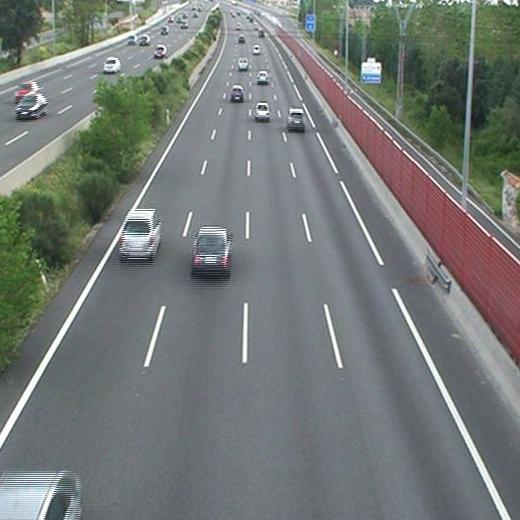car: (119, 209, 161, 260), (191, 227, 230, 271), (287, 108, 305, 129), (255, 103, 269, 119), (230, 86, 245, 100), (257, 71, 269, 83), (253, 45, 262, 54), (237, 35, 245, 45)
van: (238, 56, 249, 70)
